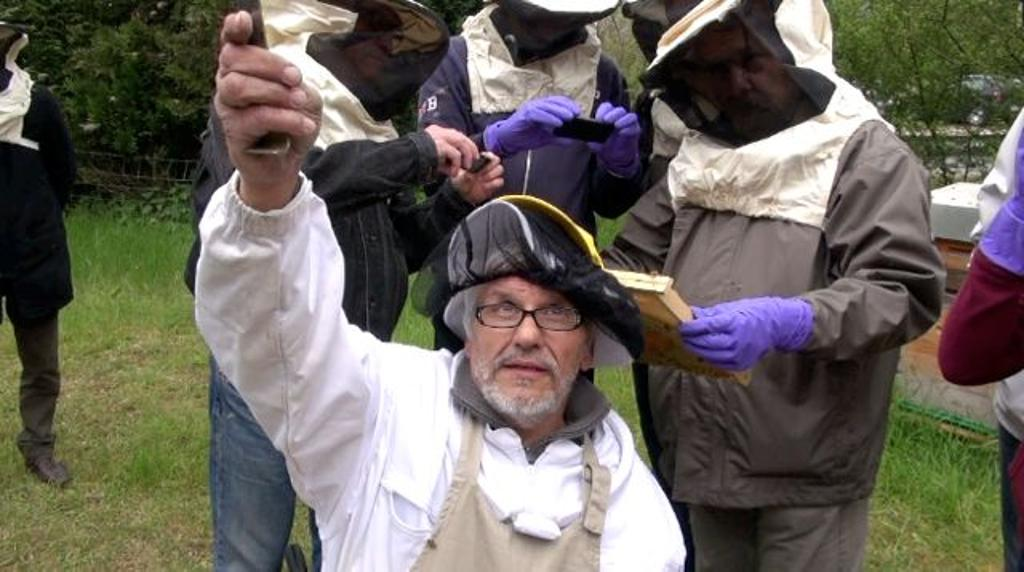face: (472, 248, 584, 410), (708, 18, 792, 136)
